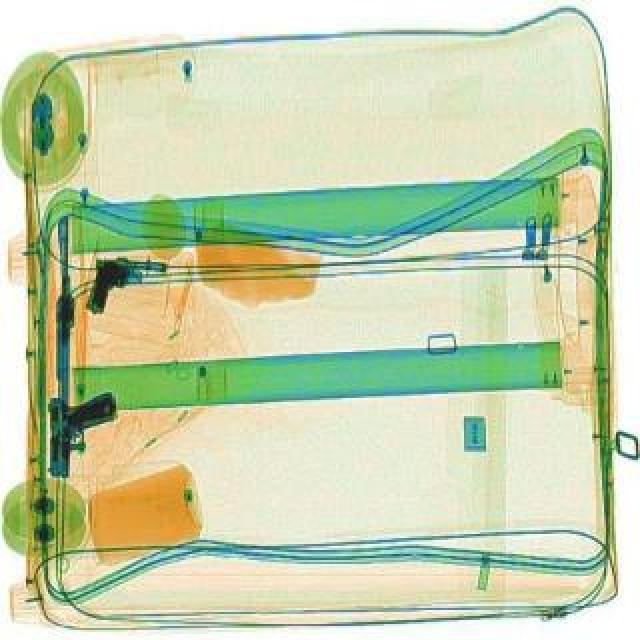gun: (36, 382, 120, 484), (74, 242, 174, 314), (48, 214, 78, 420)
